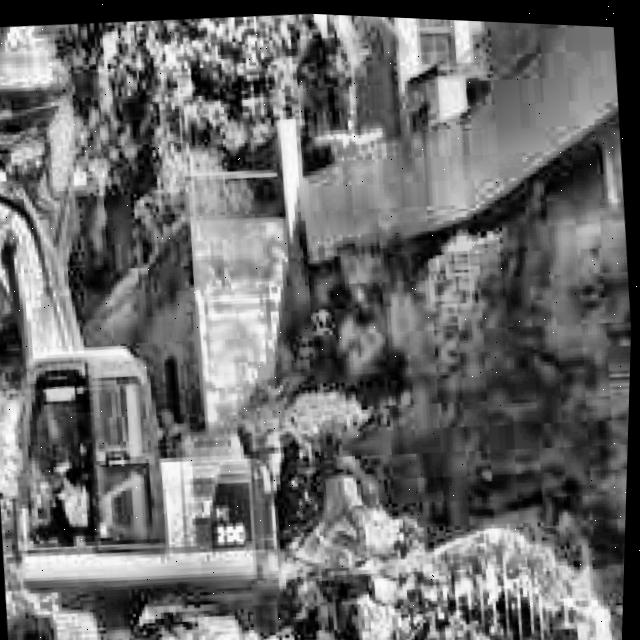excavator: (0, 4, 311, 640)
